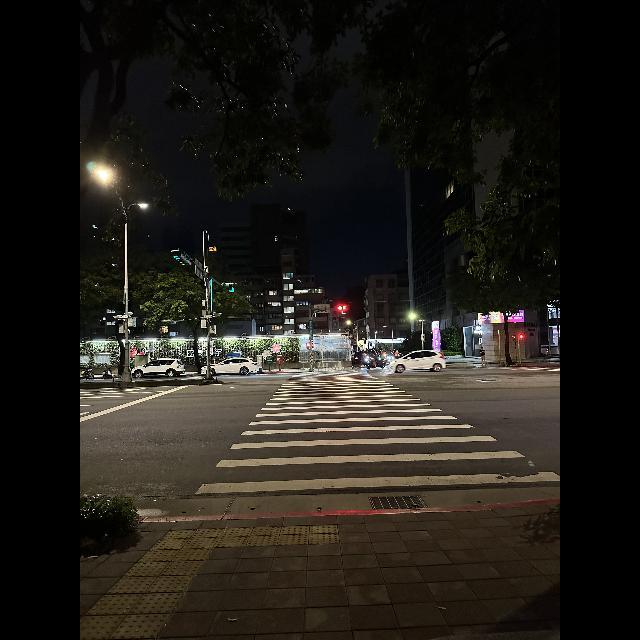sidewalk: (188, 370, 560, 496)
